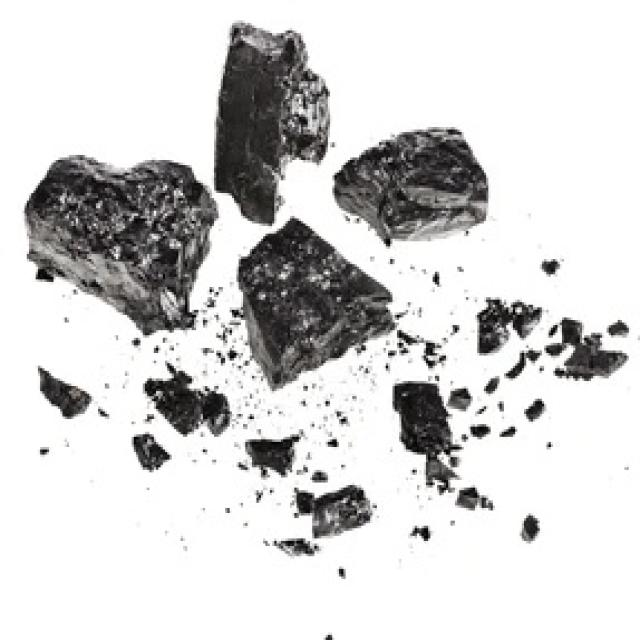Sedimentary: (13, 137, 221, 346), (230, 214, 408, 396), (208, 8, 342, 238), (334, 117, 504, 251), (379, 378, 464, 462), (31, 361, 103, 439), (290, 482, 381, 541)
